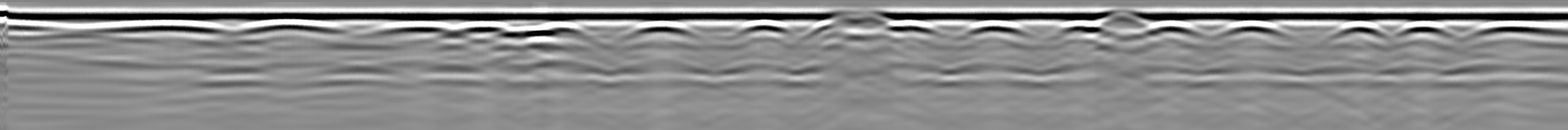pipe: (815, 11, 917, 33), (1078, 10, 1164, 30)
steel: (91, 19, 232, 36), (1461, 20, 1568, 40), (234, 20, 349, 35), (1321, 20, 1396, 40), (4, 18, 88, 35), (1042, 19, 1117, 38), (518, 20, 588, 40), (617, 20, 704, 36), (1393, 21, 1463, 40), (958, 20, 1035, 37), (359, 20, 447, 34), (1218, 21, 1293, 37), (728, 20, 794, 37), (1146, 22, 1214, 38), (449, 20, 510, 36)
